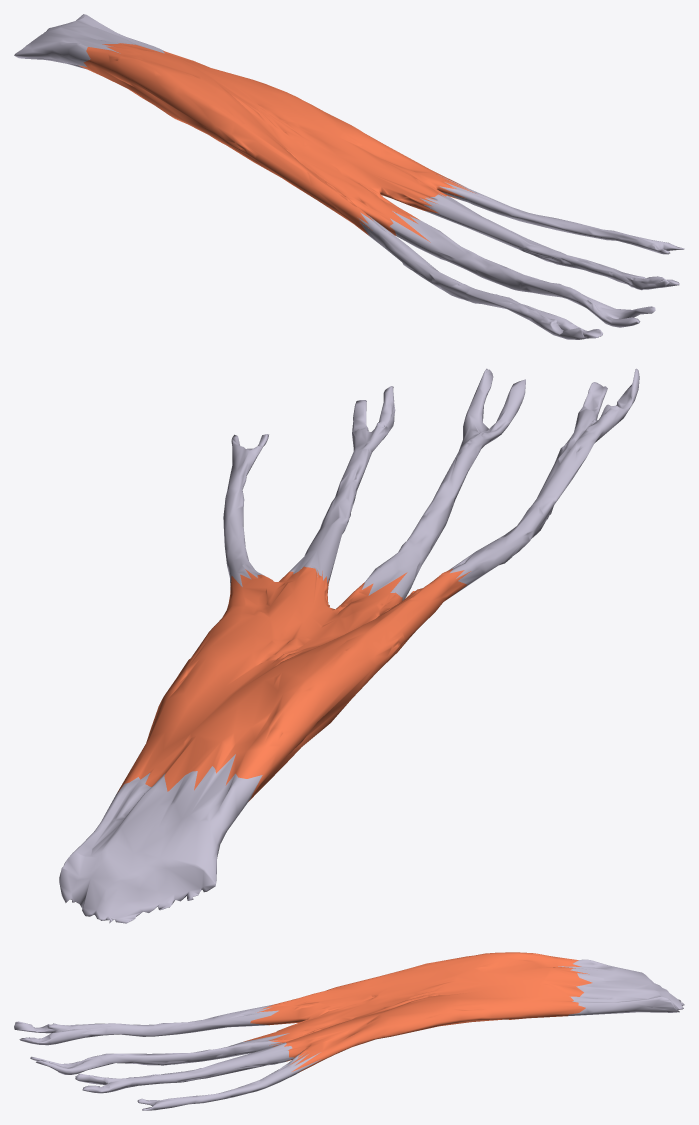
The model's file is Flexor_digitorum_brevis.l_Generated_Mesh_From_X3D.504.glb.
The picture shows the model from 3 angles, top to bottom: view 1: azimuth 30°, elevation 25°; view 2: azimuth 150°, elevation 25°; view 3: azimuth 270°, elevation 25°; orthographic projection. The views are drawn at different scales.
Visible parts, largest first — view 1: Flexor_digitorum_brevis.l_Generated_Mesh_From_X3D.504; view 2: Flexor_digitorum_brevis.l_Generated_Mesh_From_X3D.504; view 3: Flexor_digitorum_brevis.l_Generated_Mesh_From_X3D.504.
Boxes of the visible parts, x1,y1,x2,y2 form: Flexor_digitorum_brevis.l_Generated_Mesh_From_X3D.504: (14, 14, 684, 339); Flexor_digitorum_brevis.l_Generated_Mesh_From_X3D.504: (59, 368, 639, 923); Flexor_digitorum_brevis.l_Generated_Mesh_From_X3D.504: (14, 952, 684, 1110).
Bounding box in the file's own units: 0.0784 × 0.0201 × 0.1881.
